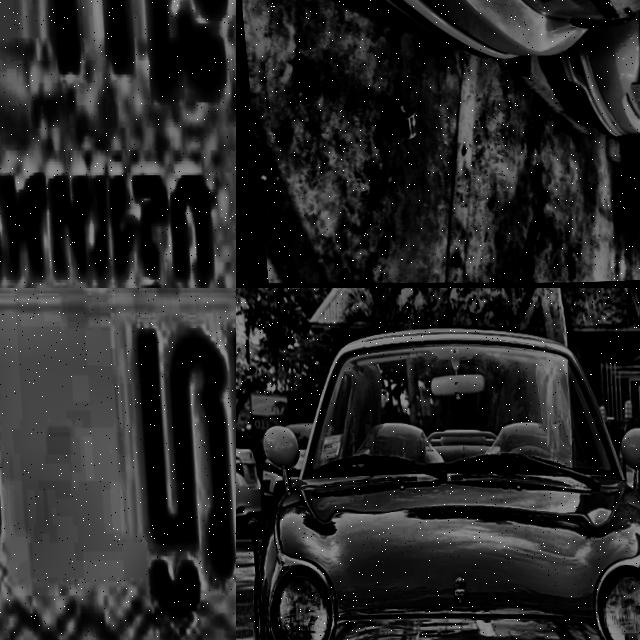license-plate: (0, 288, 236, 640), (0, 0, 236, 288), (613, 60, 640, 139), (240, 461, 249, 477)
